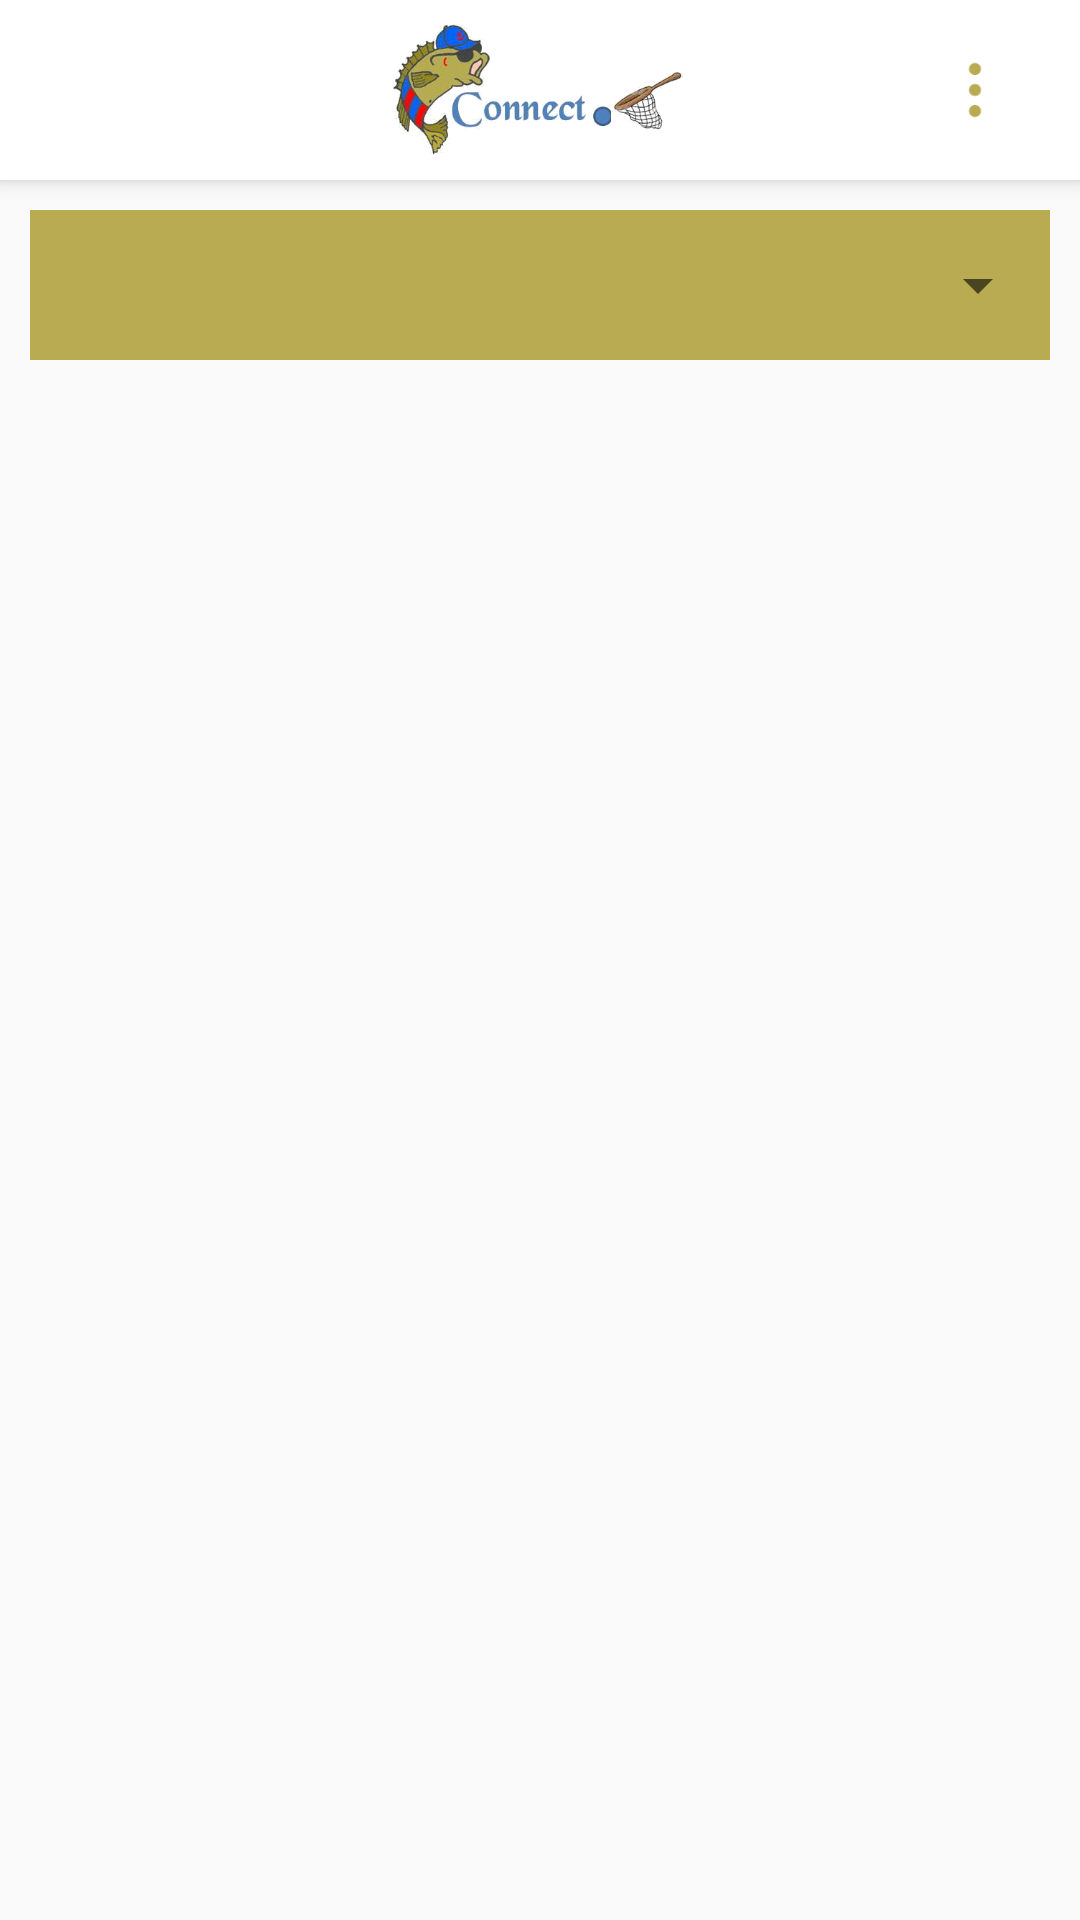

Screen size 1080px×1920px. Icon name, then its center in pixels as [x,y]:
threedot: [975,90]
